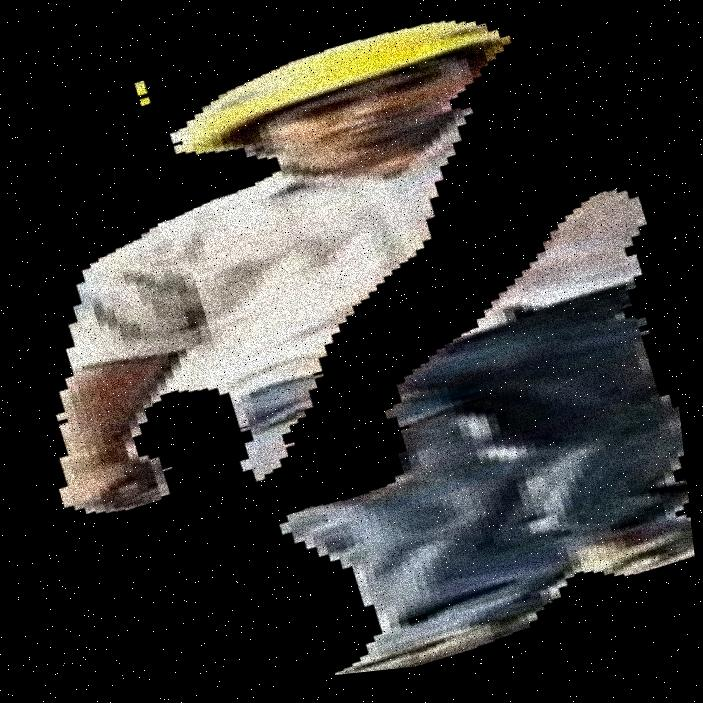Pessoa: (251, 0, 606, 702)
